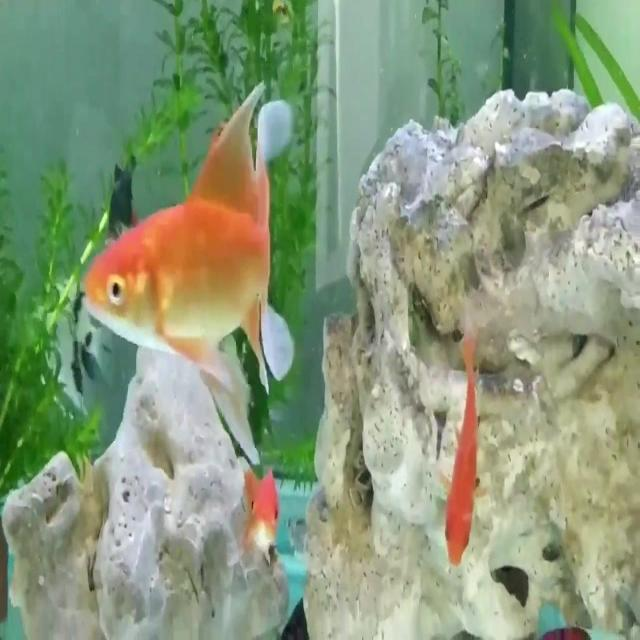GoldFish: (74, 77, 296, 425), (440, 326, 488, 592), (231, 454, 291, 581)
